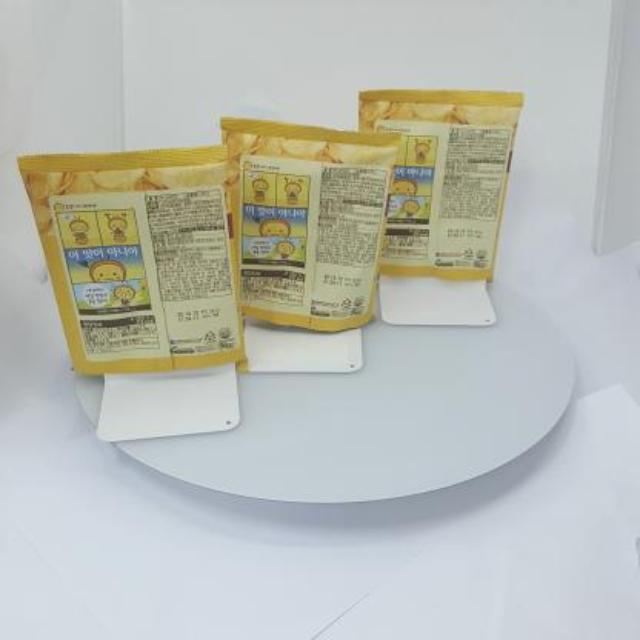snack_bag: (12, 79, 542, 389)
